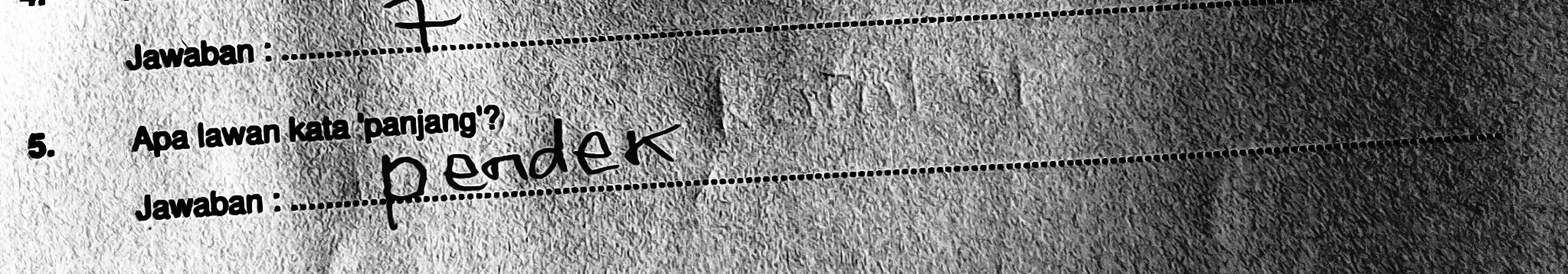jawaban: (375, 94, 700, 233)
